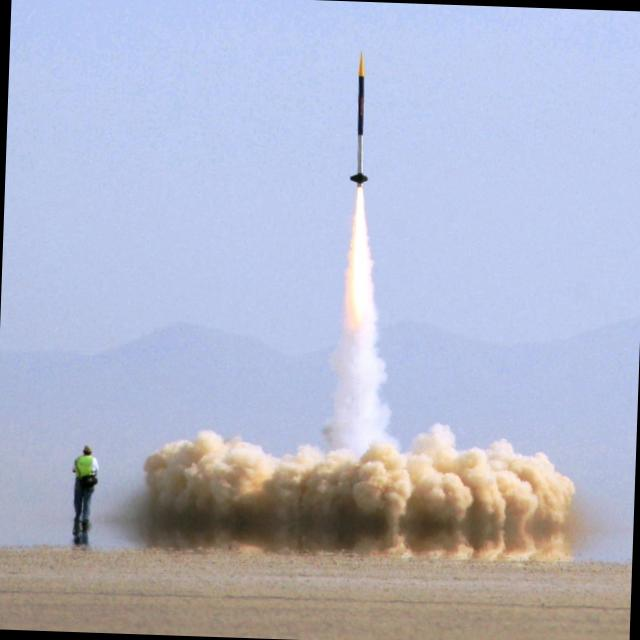rocket: (337, 39, 374, 286)
